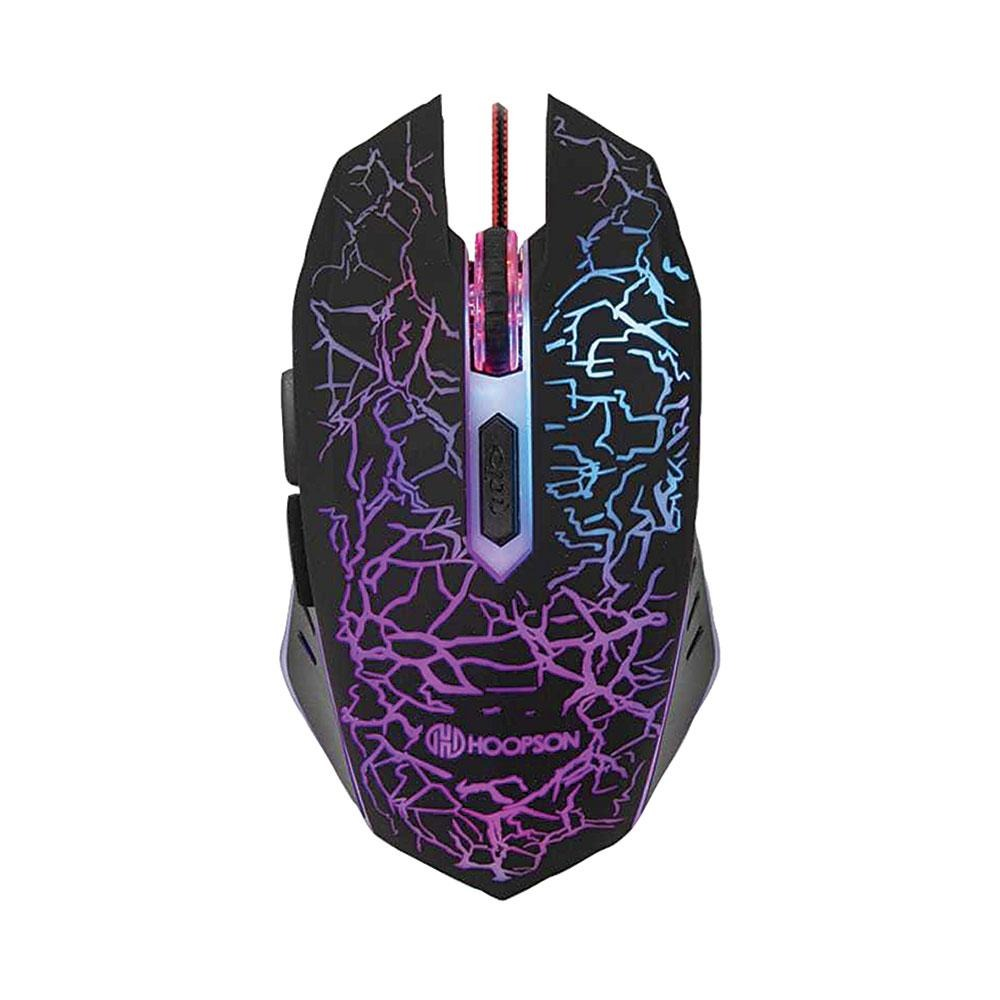mouse: (268, 64, 726, 882)
